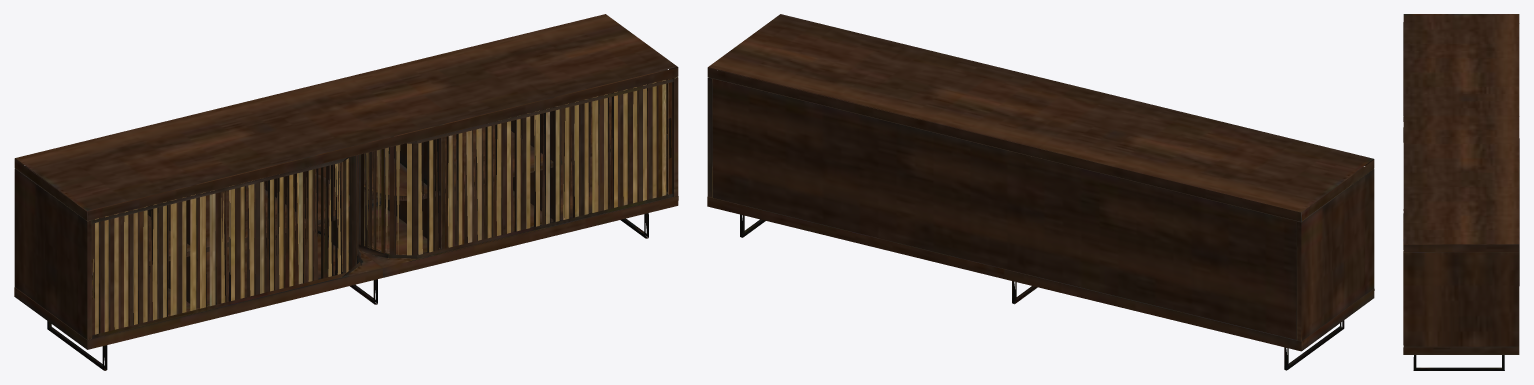
File: sideboard_long.glb
The picture shows the model from 3 angles, left to right: view 1: azimuth 30°, elevation 25°; view 2: azimuth 150°, elevation 25°; view 3: azimuth 270°, elevation 25°; orthographic projection. The views are drawn at different scales.
Visible parts, largest first — view 1: modern_wooden_cabinet_body, modern_wooden_cabinet_door_r, modern_wooden_cabinet_door_l; view 2: modern_wooden_cabinet_body; view 3: modern_wooden_cabinet_body.
Part boxes in pixels (x1,y1,x2,y2): modern_wooden_cabinet_body: (14,14,678,370); modern_wooden_cabinet_door_r: (358,78,672,255); modern_wooden_cabinet_door_l: (91,146,358,337); modern_wooden_cabinet_body: (707,14,1374,370); modern_wooden_cabinet_body: (1403,14,1519,370).
Bounding box in the file's own units: 2.44 × 0.6733 × 0.5204.
Materials: 1 (1 with a texture image).
